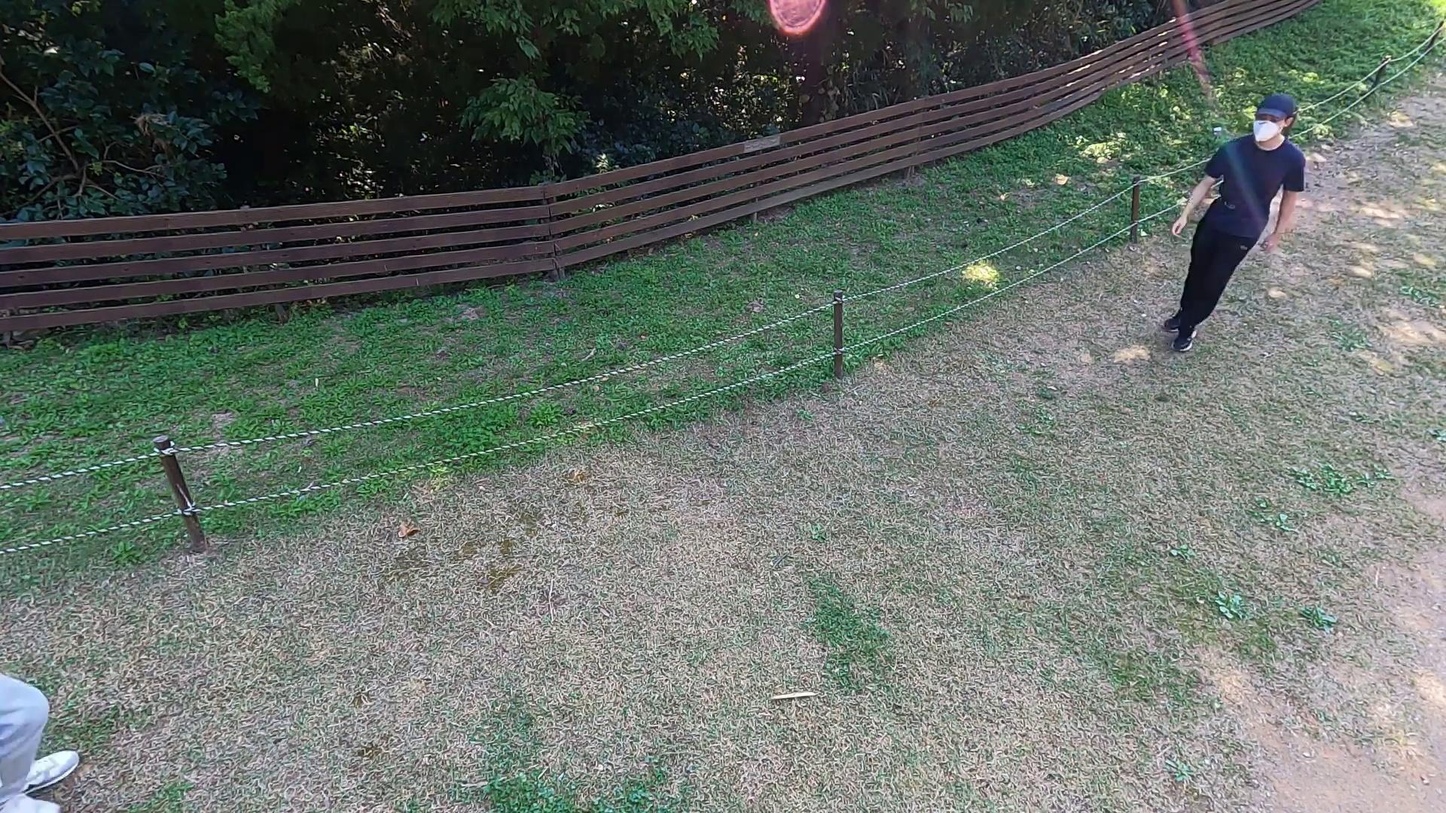person: (1162, 88, 1314, 350), (2, 628, 106, 812)
